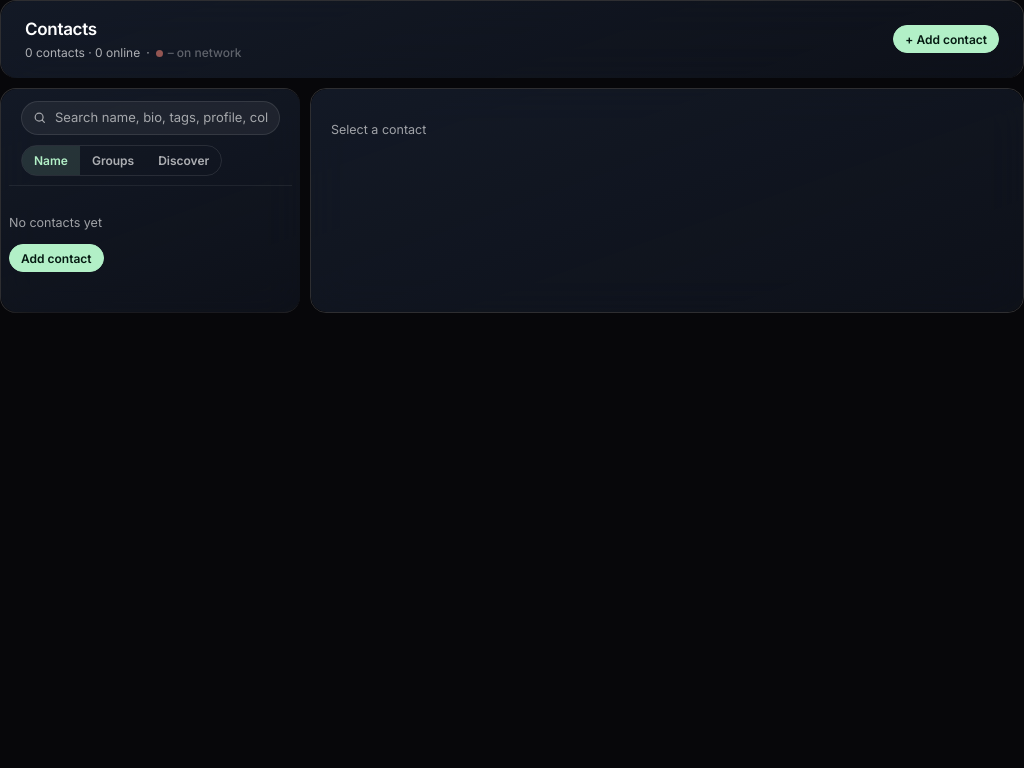
Test: QURATOR-93 — Contacts load failure is not a confident empty › the genuine empty offers [Add contact]; clicking opens the add-contact panel (QURATOR-390)
# Exact accessible name — the topbar "+ Add contact" must not satisfy this query.
Step 1. Click the button "Add contact" → click(56, 258), box [9,244,104,272]
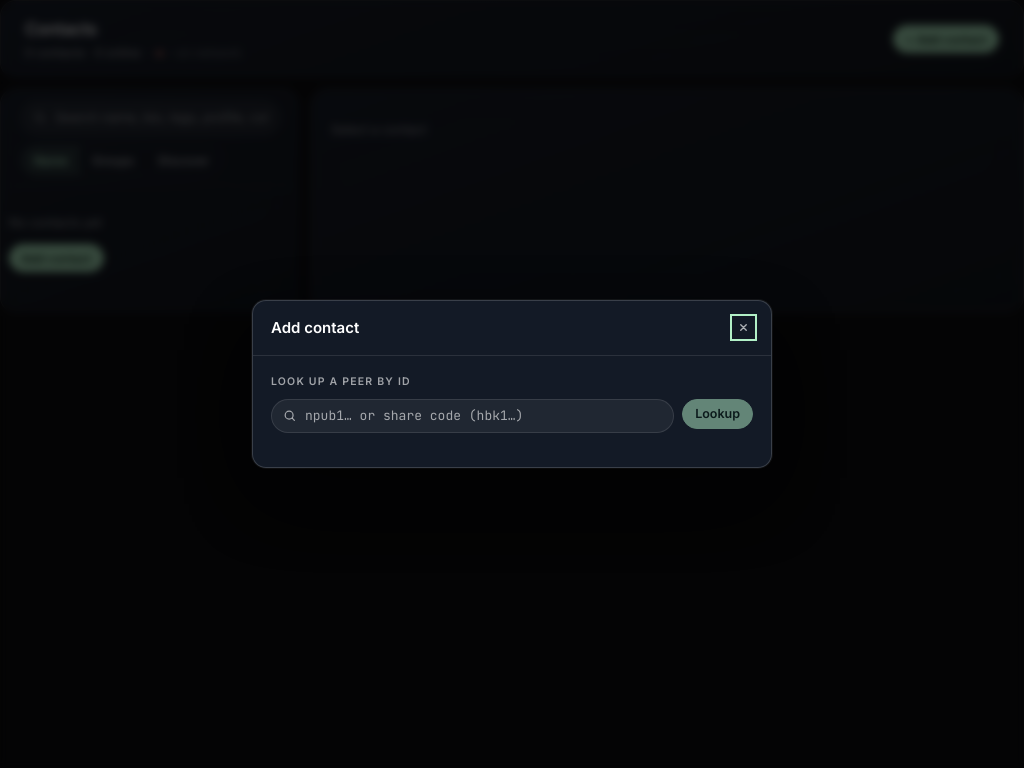
Expected: the heading "Add contact" is shown, [271,317,359,339]
